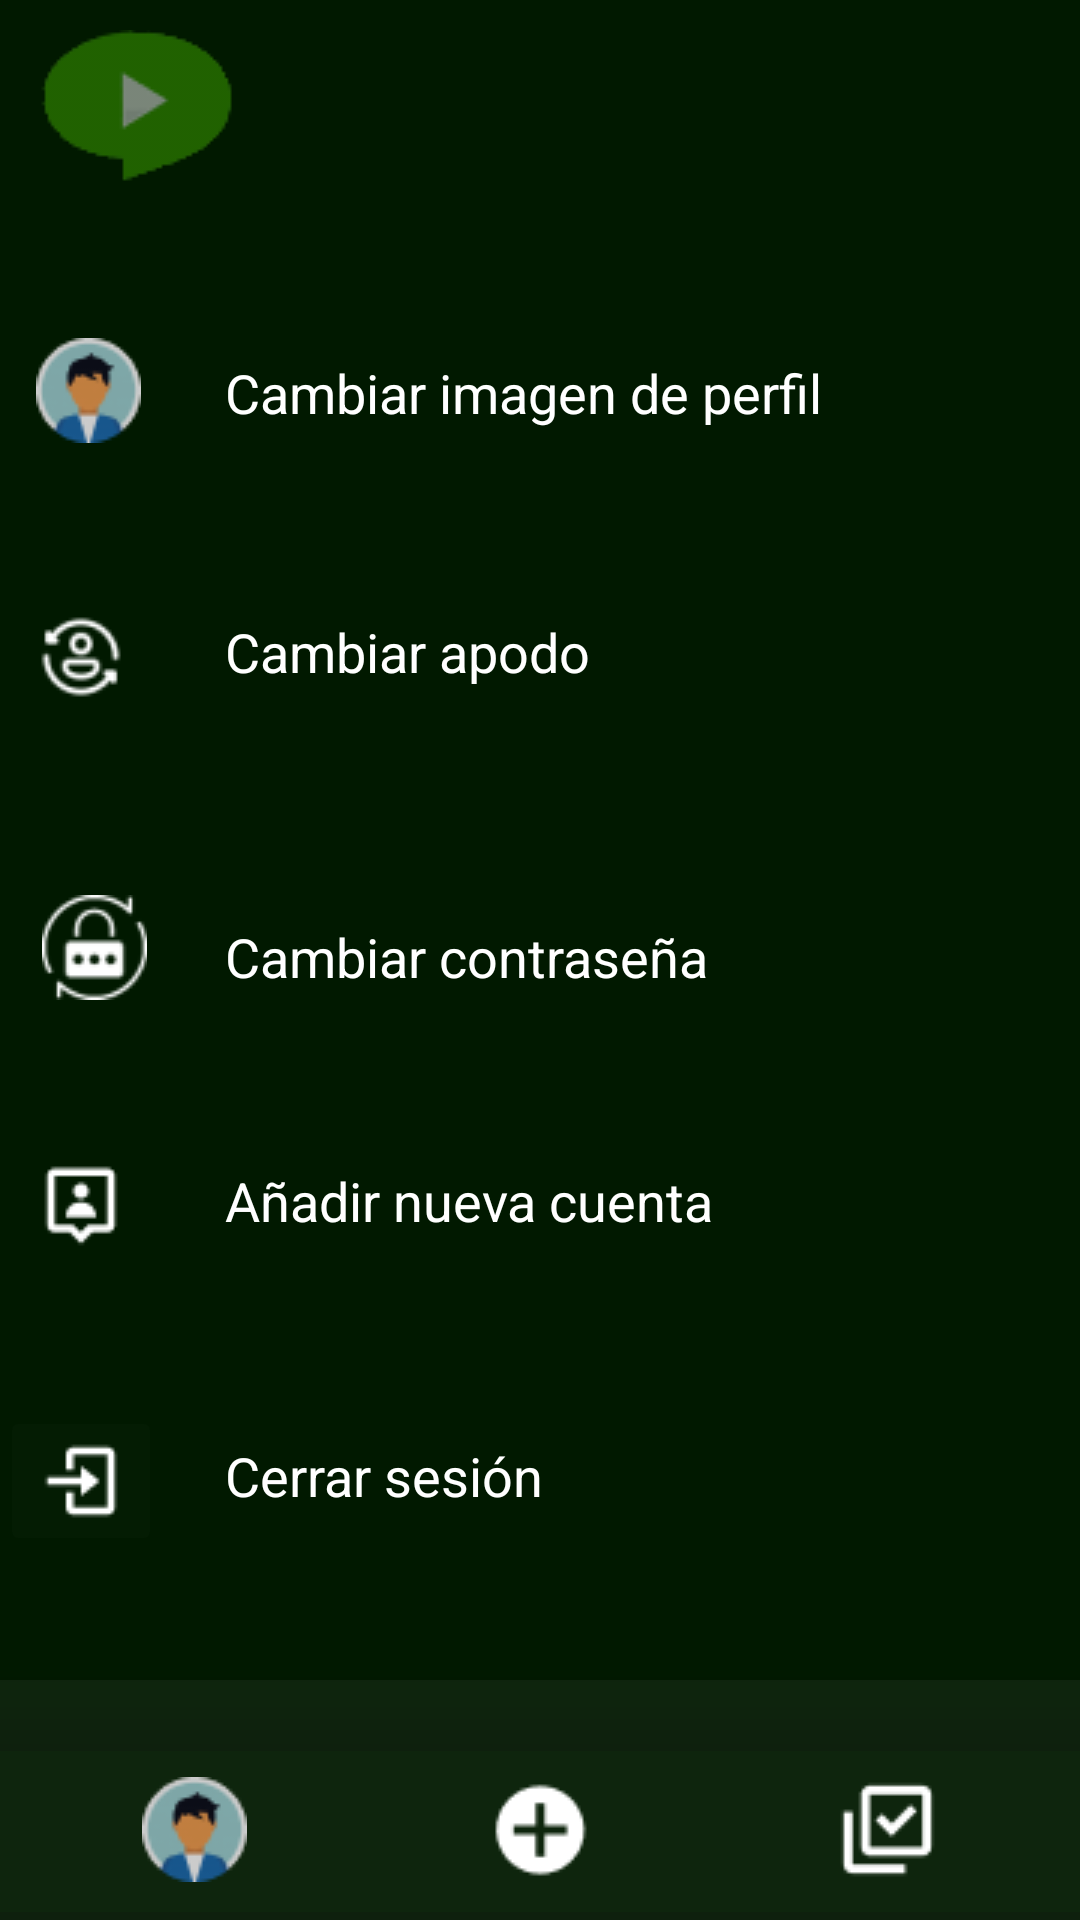

Icons on this 1080x1920 Android screen, each with its box as (x1, y1, x2, y2):
cambiarkey: (42, 895, 147, 1000)
cerrarsesion: (45, 1445, 117, 1517)
cuentanueva: (45, 1166, 117, 1244)
